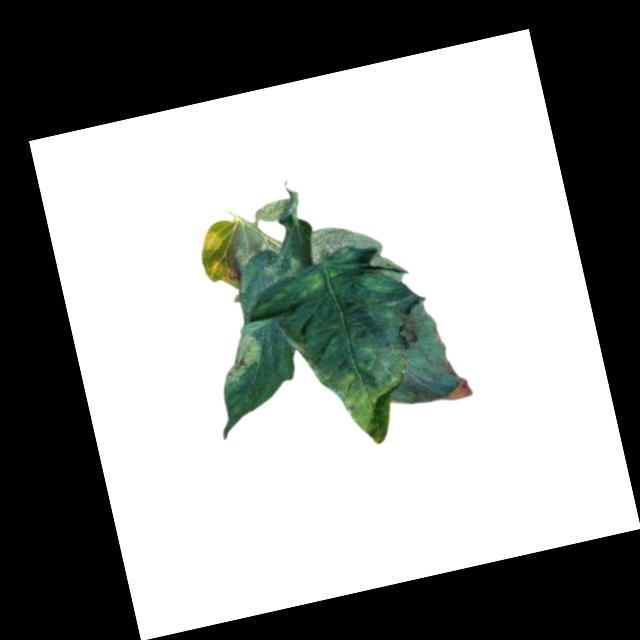Leaf_Mold: (193, 218, 246, 295), (214, 328, 270, 384), (386, 297, 438, 356), (297, 221, 362, 267)
